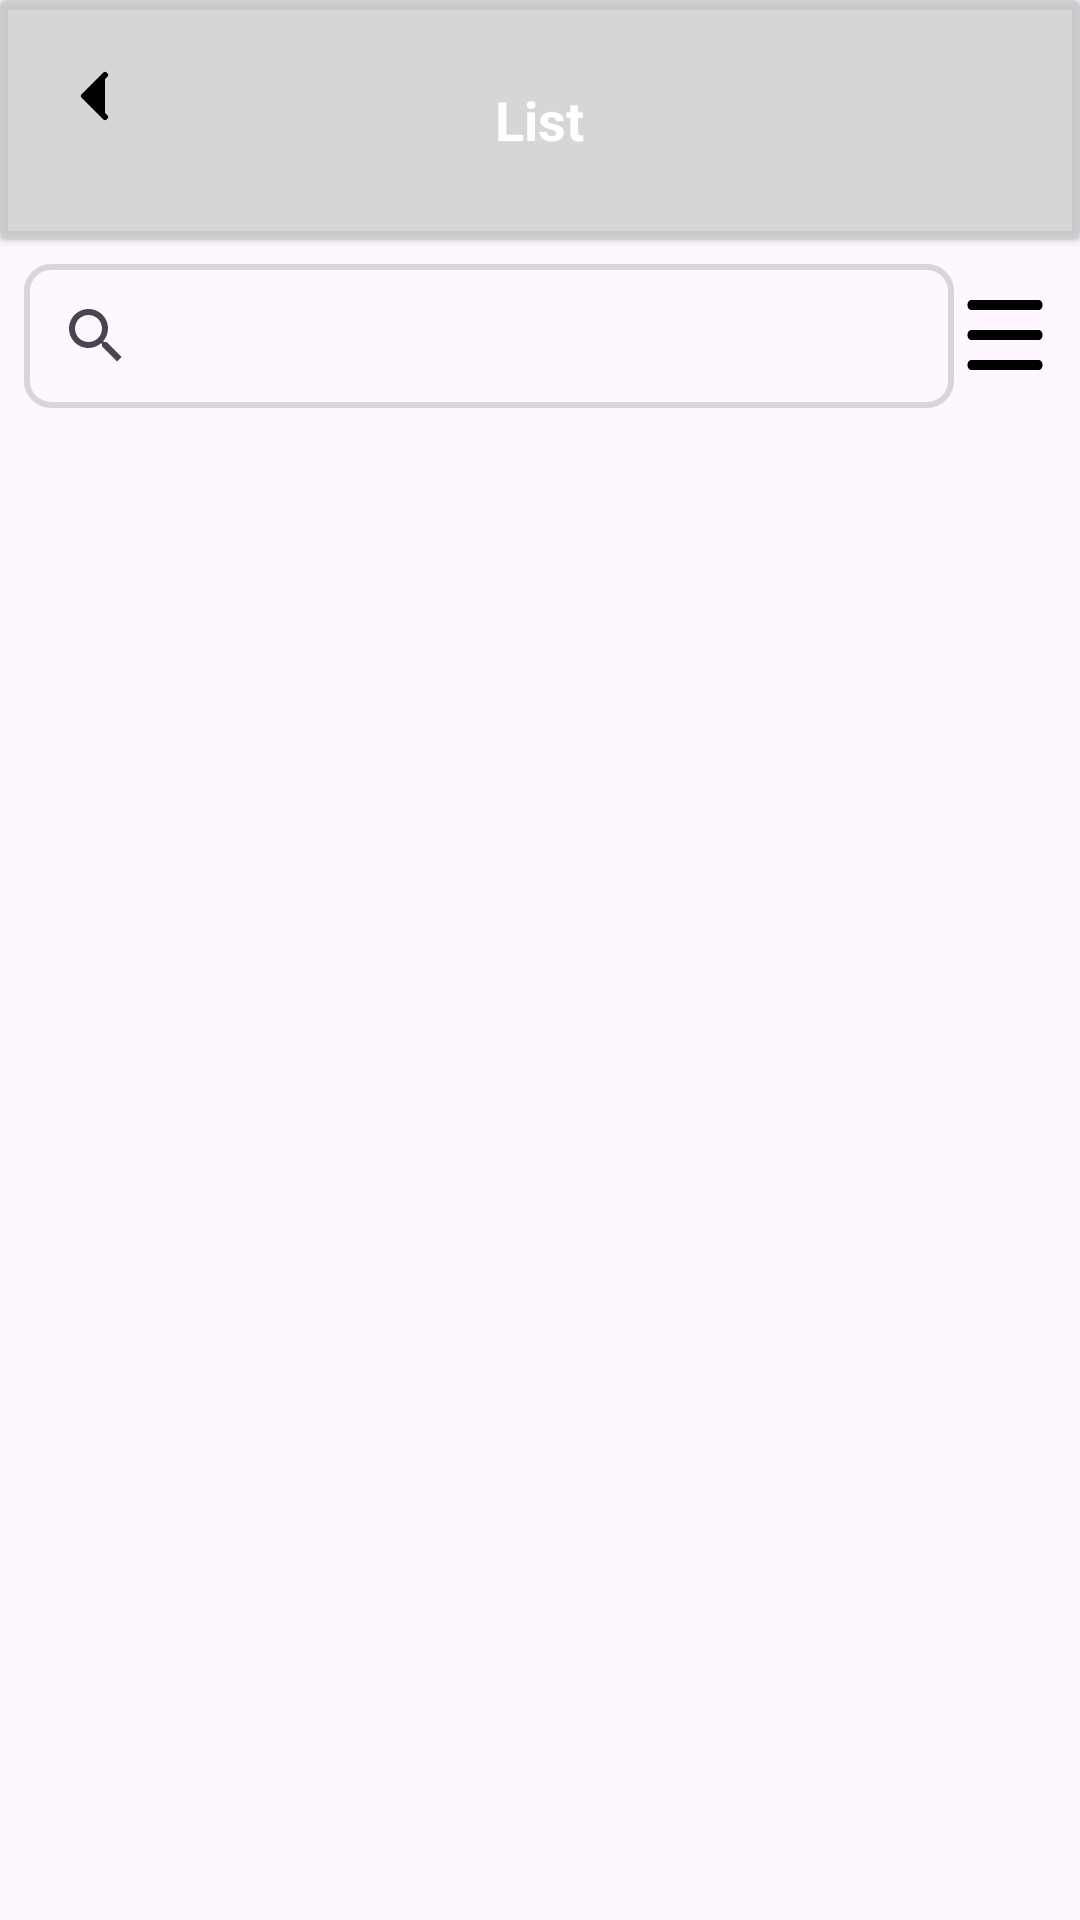

Icons on this 1080x1920 Android screen, each with its box as (x1, y1, x2, y2):
Назад: (81, 72, 108, 120)
